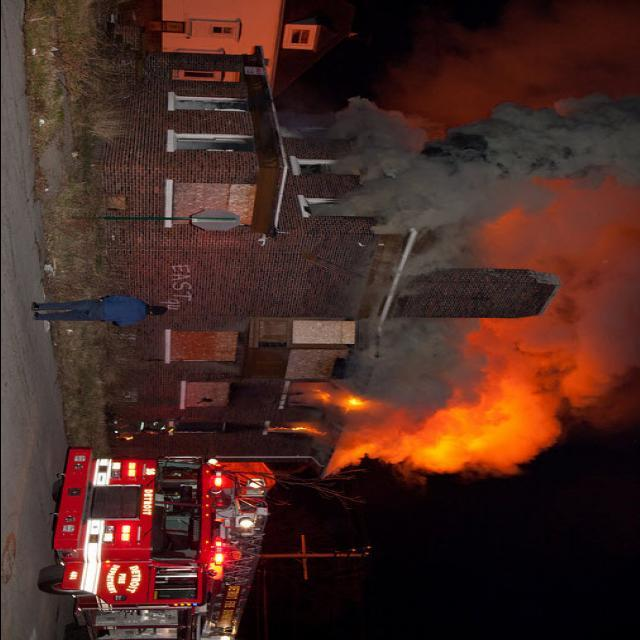Fire: (300, 307, 586, 508)
